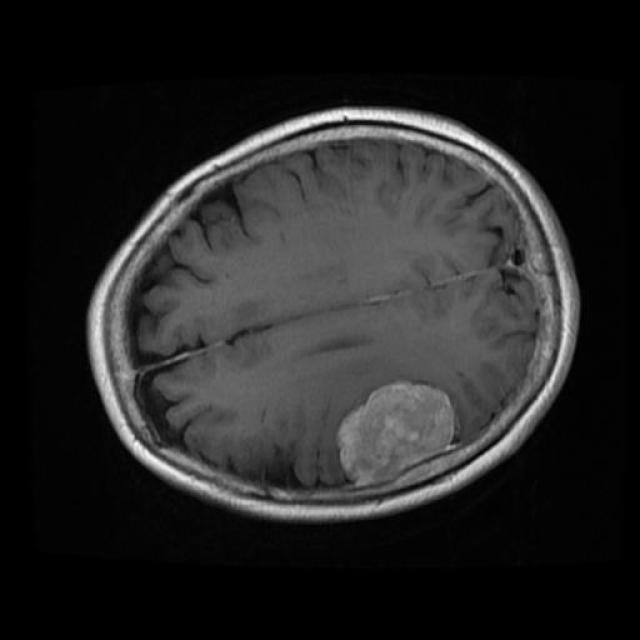Meningioma: (337, 381, 455, 487)
